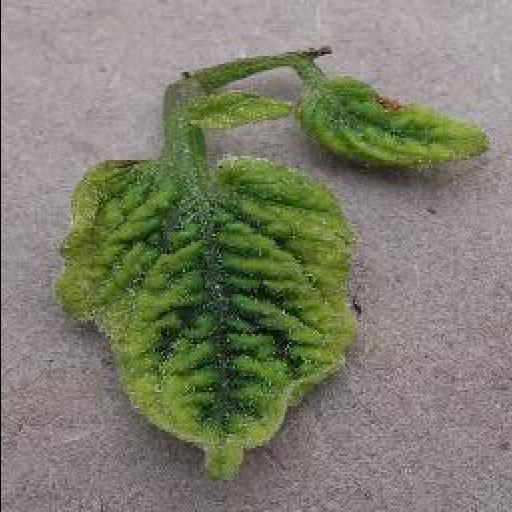disease_tomato: (50, 163, 354, 485), (299, 76, 489, 172), (174, 88, 290, 130)
